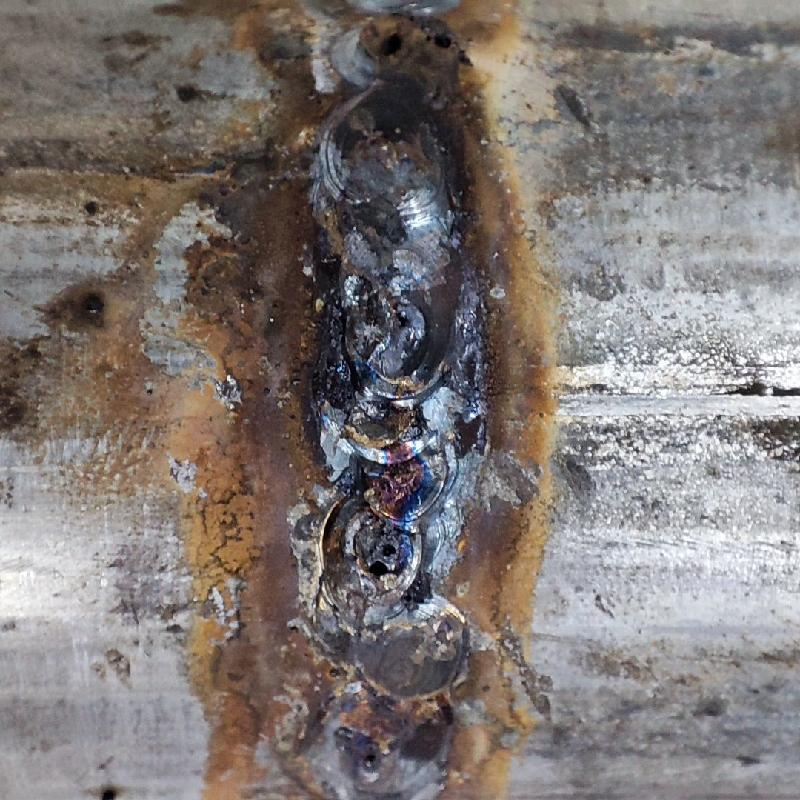Surface_pores: (359, 521, 426, 590), (363, 20, 463, 65)
crater: (309, 3, 468, 785)
